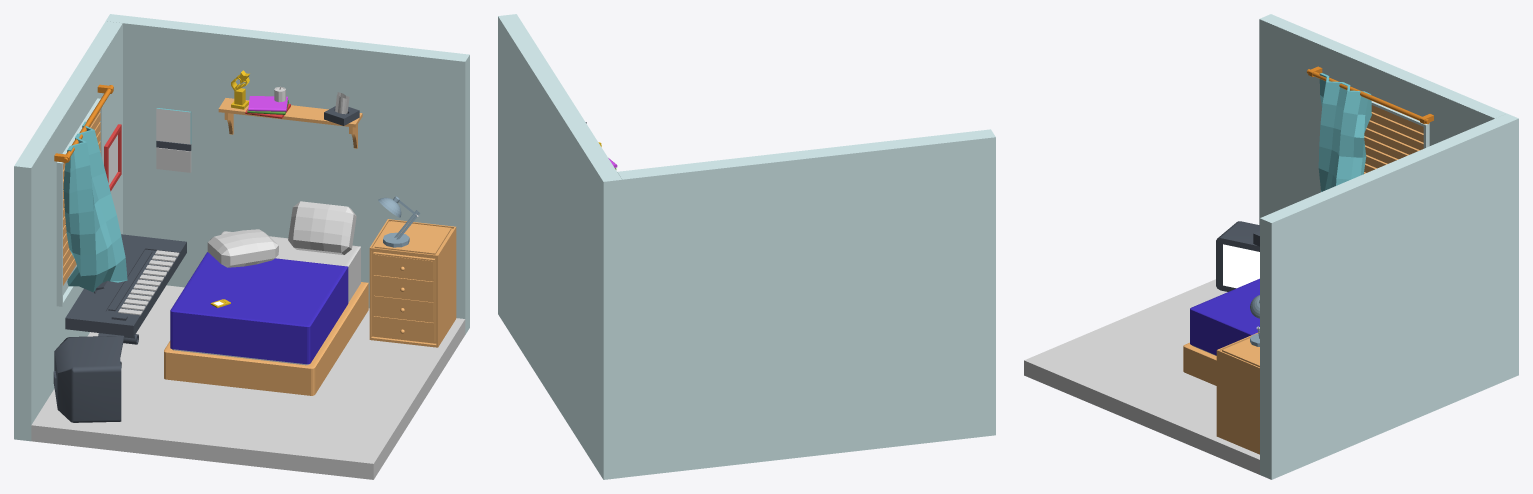
3 views of the same model, side by side, from view 1: azimuth 30°, elevation 25°; view 2: azimuth 150°, elevation 25°; view 3: azimuth 270°, elevation 25° (orthographic). The views are drawn at different scales.
Visible parts, largest first — view 1: Wall2_27, Floor_24, BedSheets_8, Wall1_25, FloorShelf_6, Wall1.2_28, Courtains1_20, BedSupport_9, TV_22, Piano_13, Pillow1_10, Calendar_5 (+9 smaller); view 2: Wall1.2_28, Wall2_27; view 3: Wall2_27, Floor_24, Wall1_25, Courtains1_20, FloorShelf_6, BedSheets_8, WindowWoodCourtains_18, TV_22, Wall1.2_28, BedSupport_9, CourtainsSupport_19.
Boxes of the visible parts, box(x1,y1,x2,y2) form: Wall2_27: box(106, 14, 469, 334); Floor_24: box(31, 285, 465, 479); BedSheets_8: box(170, 252, 348, 364); Wall1_25: box(31, 23, 122, 424); FloorShelf_6: box(369, 219, 456, 347); Wall1.2_28: box(14, 21, 122, 441); Courtains1_20: box(63, 121, 127, 292); BedSupport_9: box(164, 282, 368, 395); TV_22: box(53, 336, 121, 422); Piano_13: box(65, 234, 186, 336); Pillow1_10: box(288, 201, 356, 254); Calendar_5: box(156, 108, 191, 172); Wall1.2_28: box(617, 129, 995, 477); Wall2_27: box(498, 14, 622, 479); Wall2_27: box(1260, 113, 1518, 479); Floor_24: box(1024, 279, 1259, 474); Wall1_25: box(1259, 19, 1494, 225); Courtains1_20: box(1318, 73, 1371, 191); FloorShelf_6: box(1216, 332, 1259, 454); BedSheets_8: box(1190, 278, 1259, 355); WindowWoodCourtains_18: box(1363, 105, 1423, 173); TV_22: box(1216, 221, 1259, 291); Wall1.2_28: box(1260, 14, 1506, 118); BedSupport_9: box(1183, 342, 1216, 385); CourtainsSupport_19: box(1307, 66, 1433, 124).
Size of the model in its own units: 14.85 by 8.5 by 14.85.
